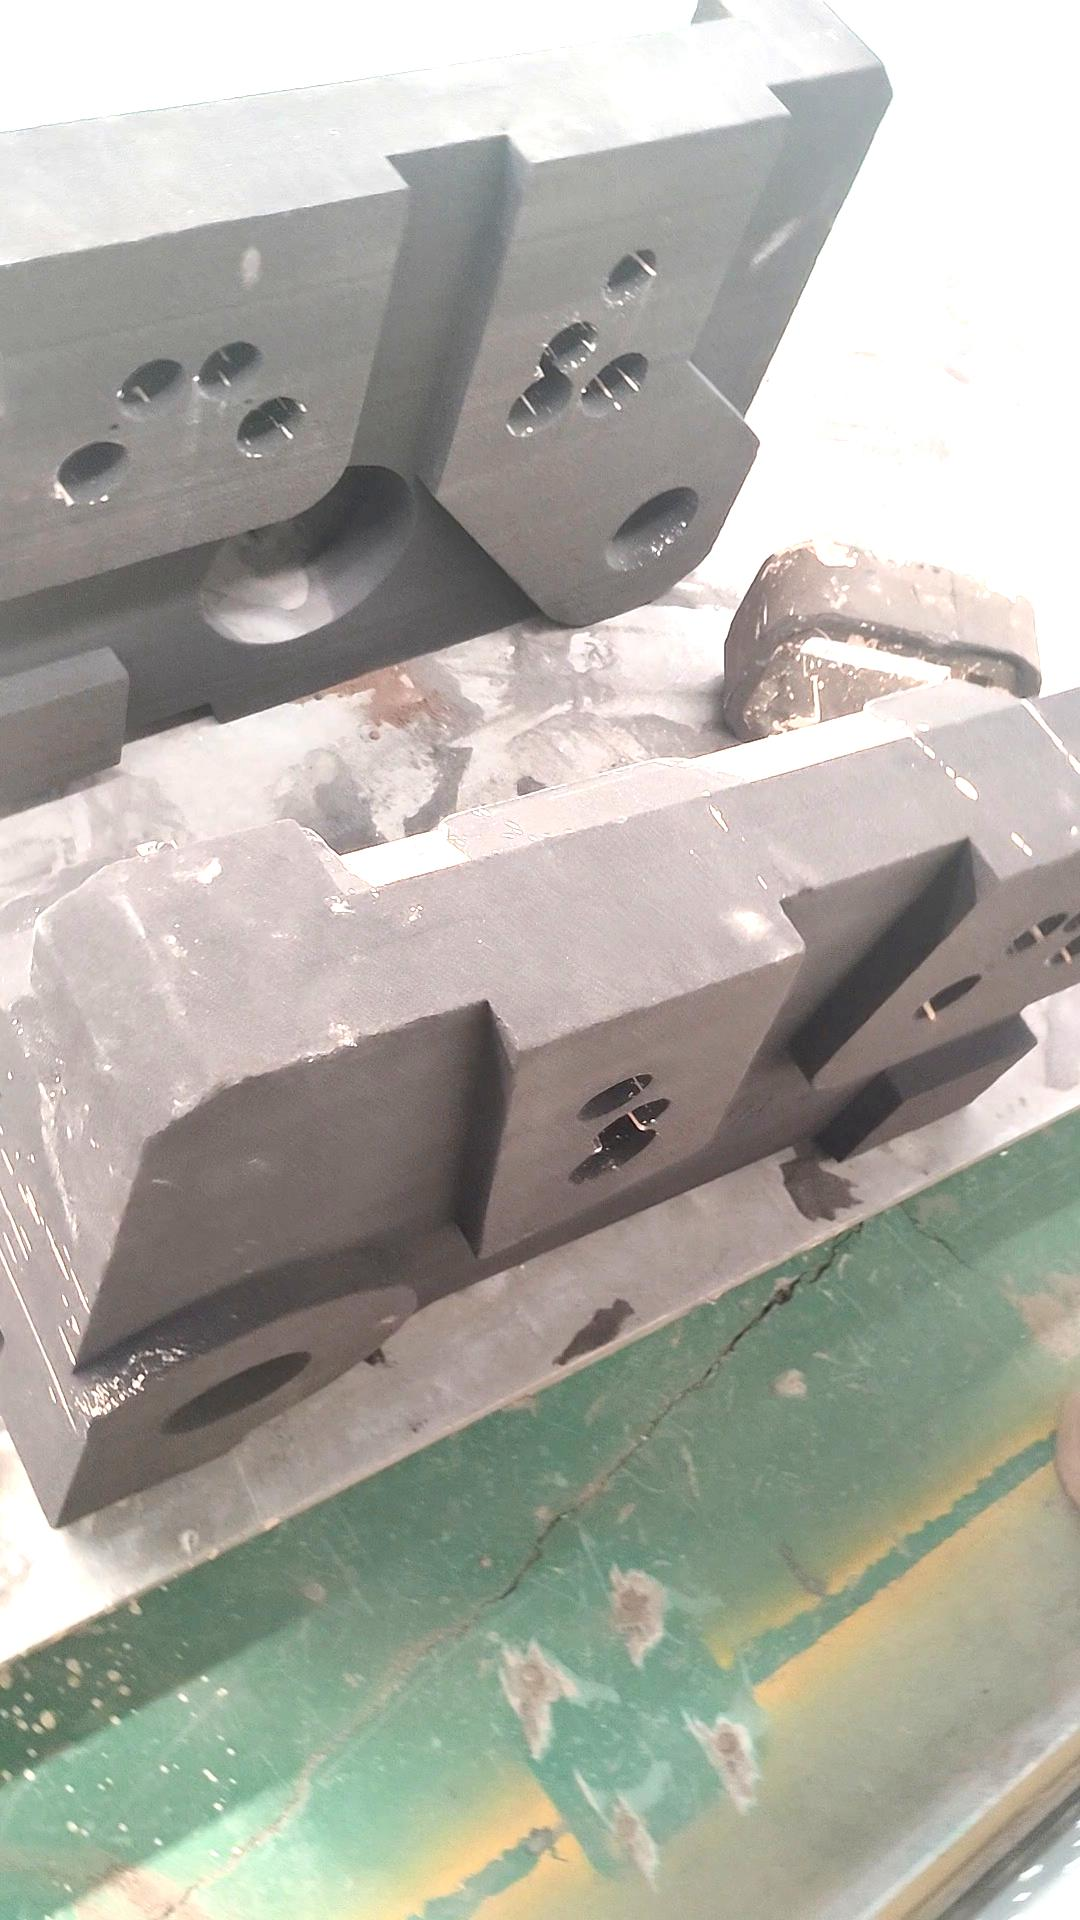pouring hole: (158, 1349, 310, 1437), (604, 487, 698, 575)
